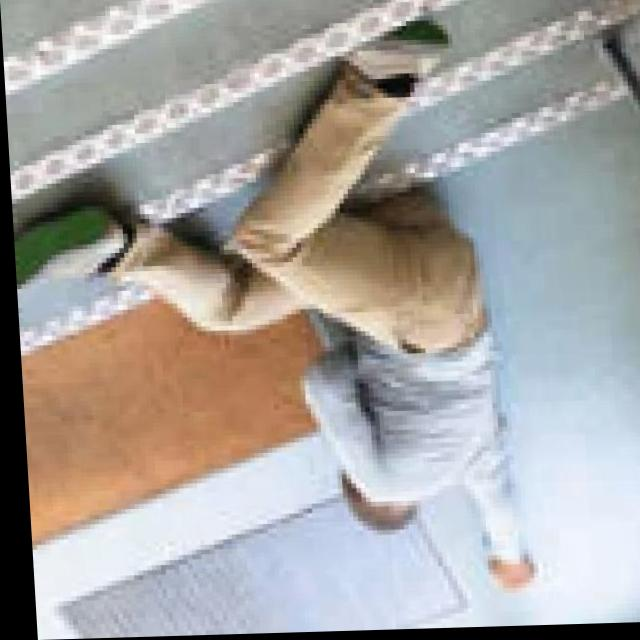fall: (1, 17, 533, 617)
